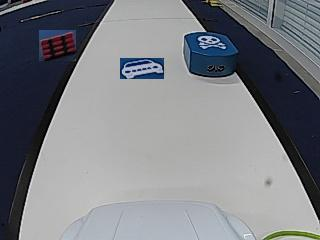danger: (196, 35, 227, 50)
